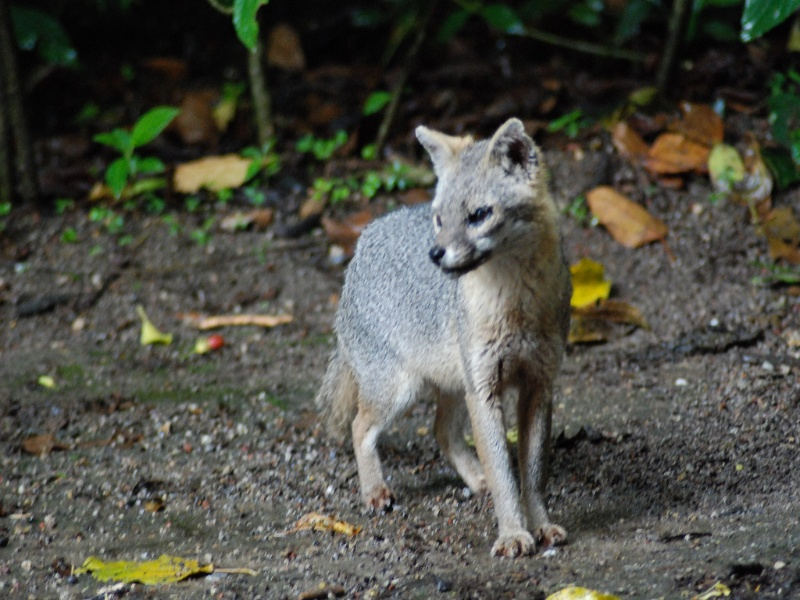fox: (300, 112, 579, 569)
